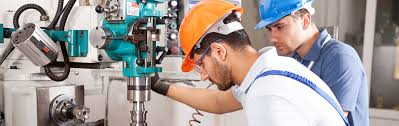Person_wearing_helmet: (170, 0, 240, 75), (252, 0, 319, 36)
